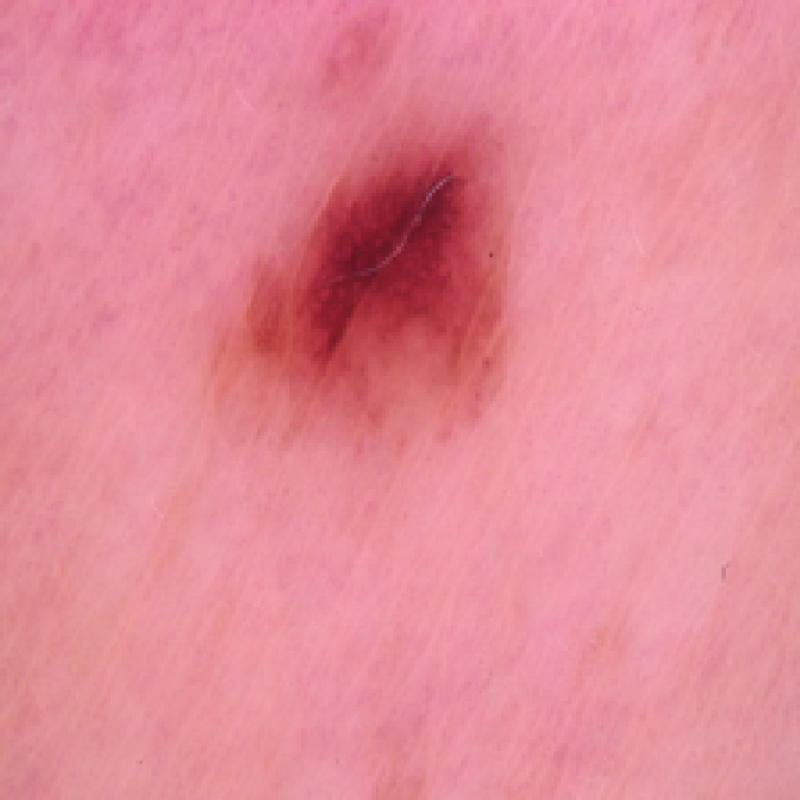benign: (255, 103, 541, 442)
